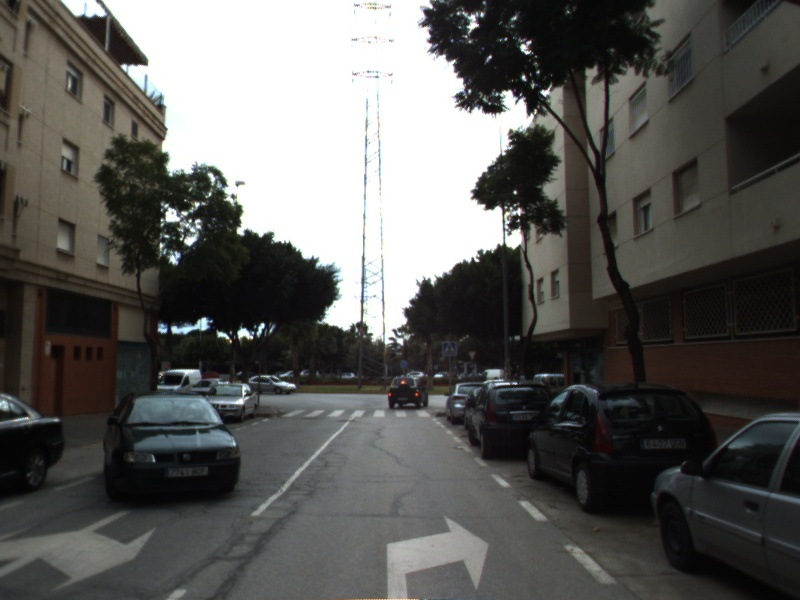RIGHT: (384, 512, 493, 600)
